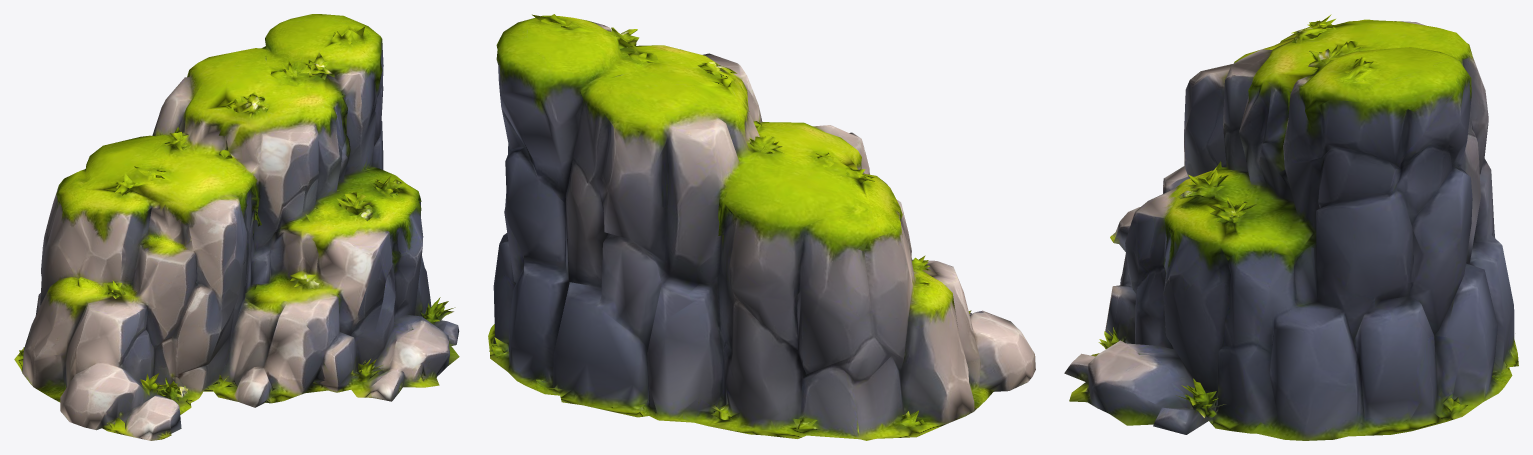
3 views of the same model, side by side, from view 1: azimuth 30°, elevation 25°; view 2: azimuth 150°, elevation 25°; view 3: azimuth 270°, elevation 25° (orthographic). The views are drawn at different scales.
Parts seen in each view (by area): view 1: prop; view 2: prop; view 3: prop.
Part boxes in pixels (x1=…): prop: x1=14, y1=14, x2=459, y2=440; prop: x1=488, y1=14, x2=1035, y2=440; prop: x1=1064, y1=14, x2=1518, y2=440.
Size of the model in its own units: 1.5 by 0.9964 by 1.16.
Materials: 1 (1 with a texture image).
